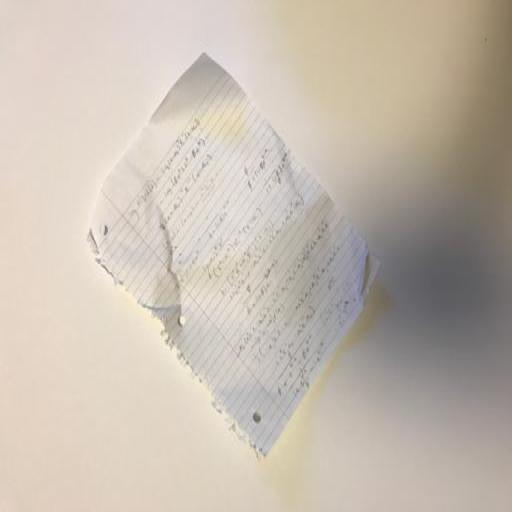paper: (94, 49, 378, 460)
